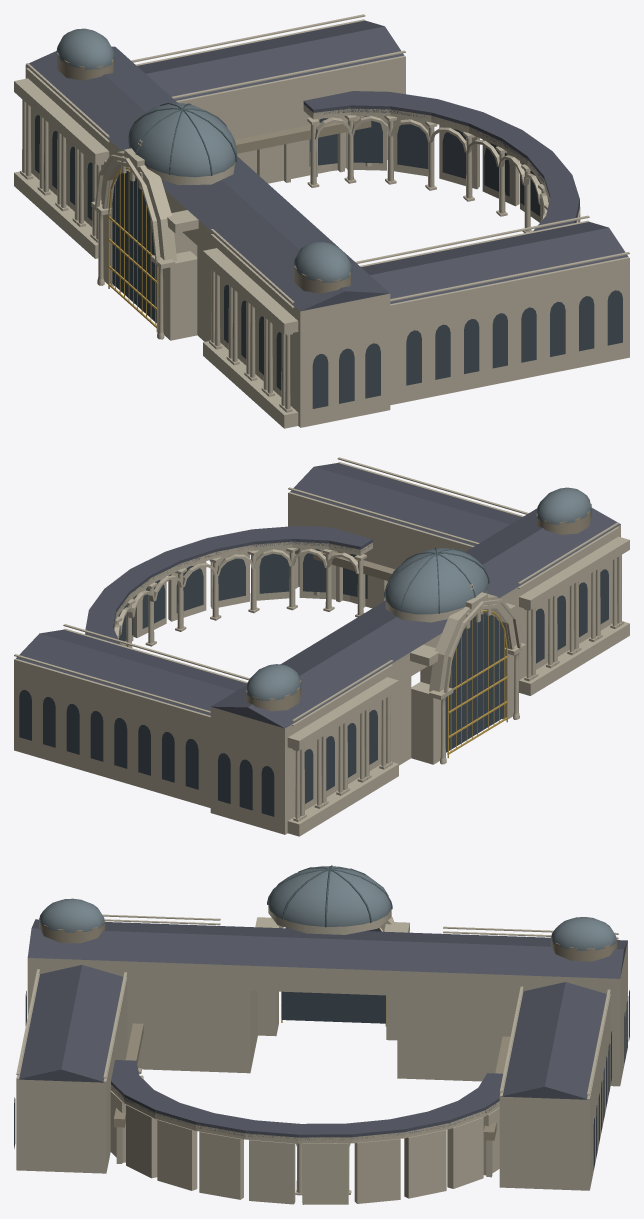
Rendered from paris-petit-palais-far.glb.
3 views of the same model, one above another, from view 1: azimuth 30°, elevation 25°; view 2: azimuth 150°, elevation 25°; view 3: azimuth 270°, elevation 25° (orthographic). The views are drawn at different scales.
Parts seen in each view (by area): view 1: paris-petit-palais-stone, paris-petit-palais-roof, paris-petit-palais-shadow, paris-petit-palais-roofLight, paris-petit-palais-stoneDark, paris-petit-palais-gold, paris-petit-palais-iron; view 2: paris-petit-palais-stone, paris-petit-palais-roof, paris-petit-palais-shadow, paris-petit-palais-roofLight, paris-petit-palais-gold, paris-petit-palais-stoneDark, paris-petit-palais-iron; view 3: paris-petit-palais-stone, paris-petit-palais-roof, paris-petit-palais-roofLight, paris-petit-palais-shadow, paris-petit-palais-stoneDark, paris-petit-palais-iron.
Boxes of the visible parts, <box> form: paris-petit-palais-stone: <box>14,14,629,428</box>; paris-petit-palais-roof: <box>26,20,628,311</box>; paris-petit-palais-shadow: <box>35,115,622,408</box>; paris-petit-palais-roofLight: <box>56,28,352,282</box>; paris-petit-palais-stoneDark: <box>57,52,387,293</box>; paris-petit-palais-gold: <box>108,167,158,332</box>; paris-petit-palais-iron: <box>128,102,236,175</box>; paris-petit-palais-stone: <box>14,457,629,836</box>; paris-petit-palais-roof: <box>16,463,620,728</box>; paris-petit-palais-shadow: <box>19,549,608,816</box>; paris-petit-palais-roofLight: <box>246,487,591,701</box>; paris-petit-palais-gold: <box>447,610,508,758</box>; paris-petit-palais-stoneDark: <box>246,503,591,711</box>; paris-petit-palais-iron: <box>384,547,489,613</box>; paris-petit-palais-stone: <box>16,906,627,1204</box>; paris-petit-palais-roof: <box>17,919,627,1140</box>; paris-petit-palais-roofLight: <box>39,866,616,950</box>; paris-petit-palais-shadow: <box>14,927,629,1169</box>; paris-petit-palais-stoneDark: <box>39,919,617,1140</box>; paris-petit-palais-iron: <box>267,865,392,927</box>.
Size of the model in its own units: 96.49 by 42.8 by 135.
